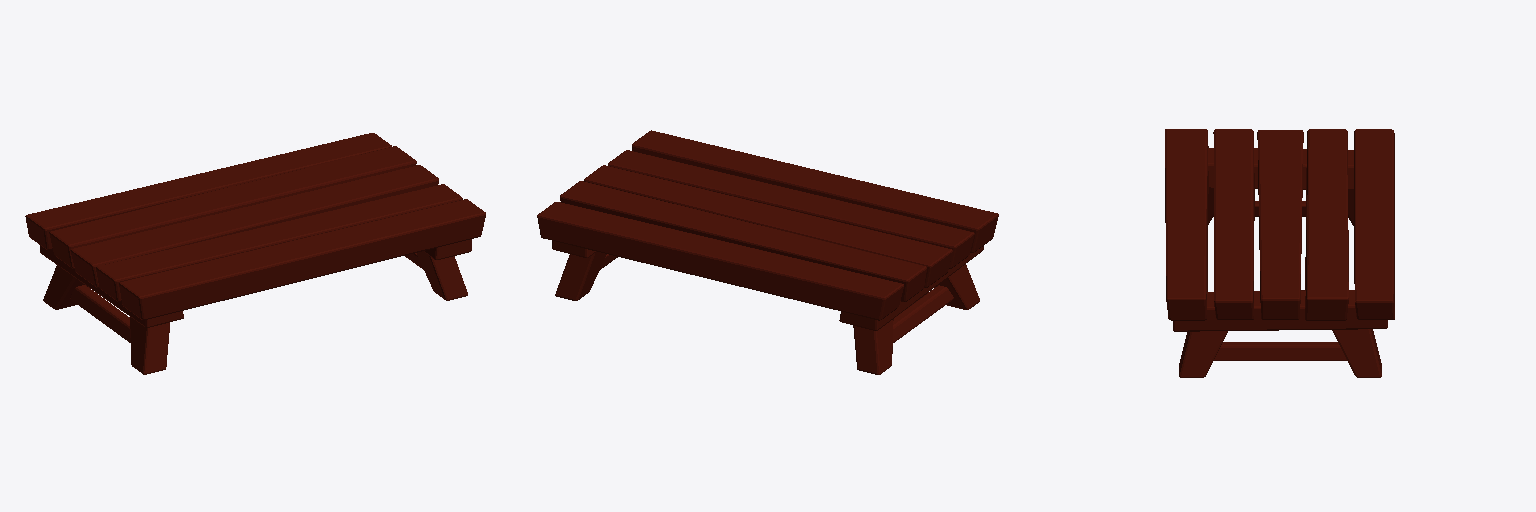
File: tableLarge.obj
3 renders of one model, left to right at view 1: azimuth 30°, elevation 25°; view 2: azimuth 150°, elevation 25°; view 3: azimuth 270°, elevation 25°, orthographic.
Visible parts, largest first — view 1: tableLarge_Cube.2857; view 2: tableLarge_Cube.2857; view 3: tableLarge_Cube.2857.
Boxes of the visible parts, x1,y1,x2,y2 form: tableLarge_Cube.2857: [25, 133, 485, 374]; tableLarge_Cube.2857: [537, 130, 998, 374]; tableLarge_Cube.2857: [1165, 129, 1394, 377].
Size of the model in its own units: 3 by 0.7075 by 1.72.